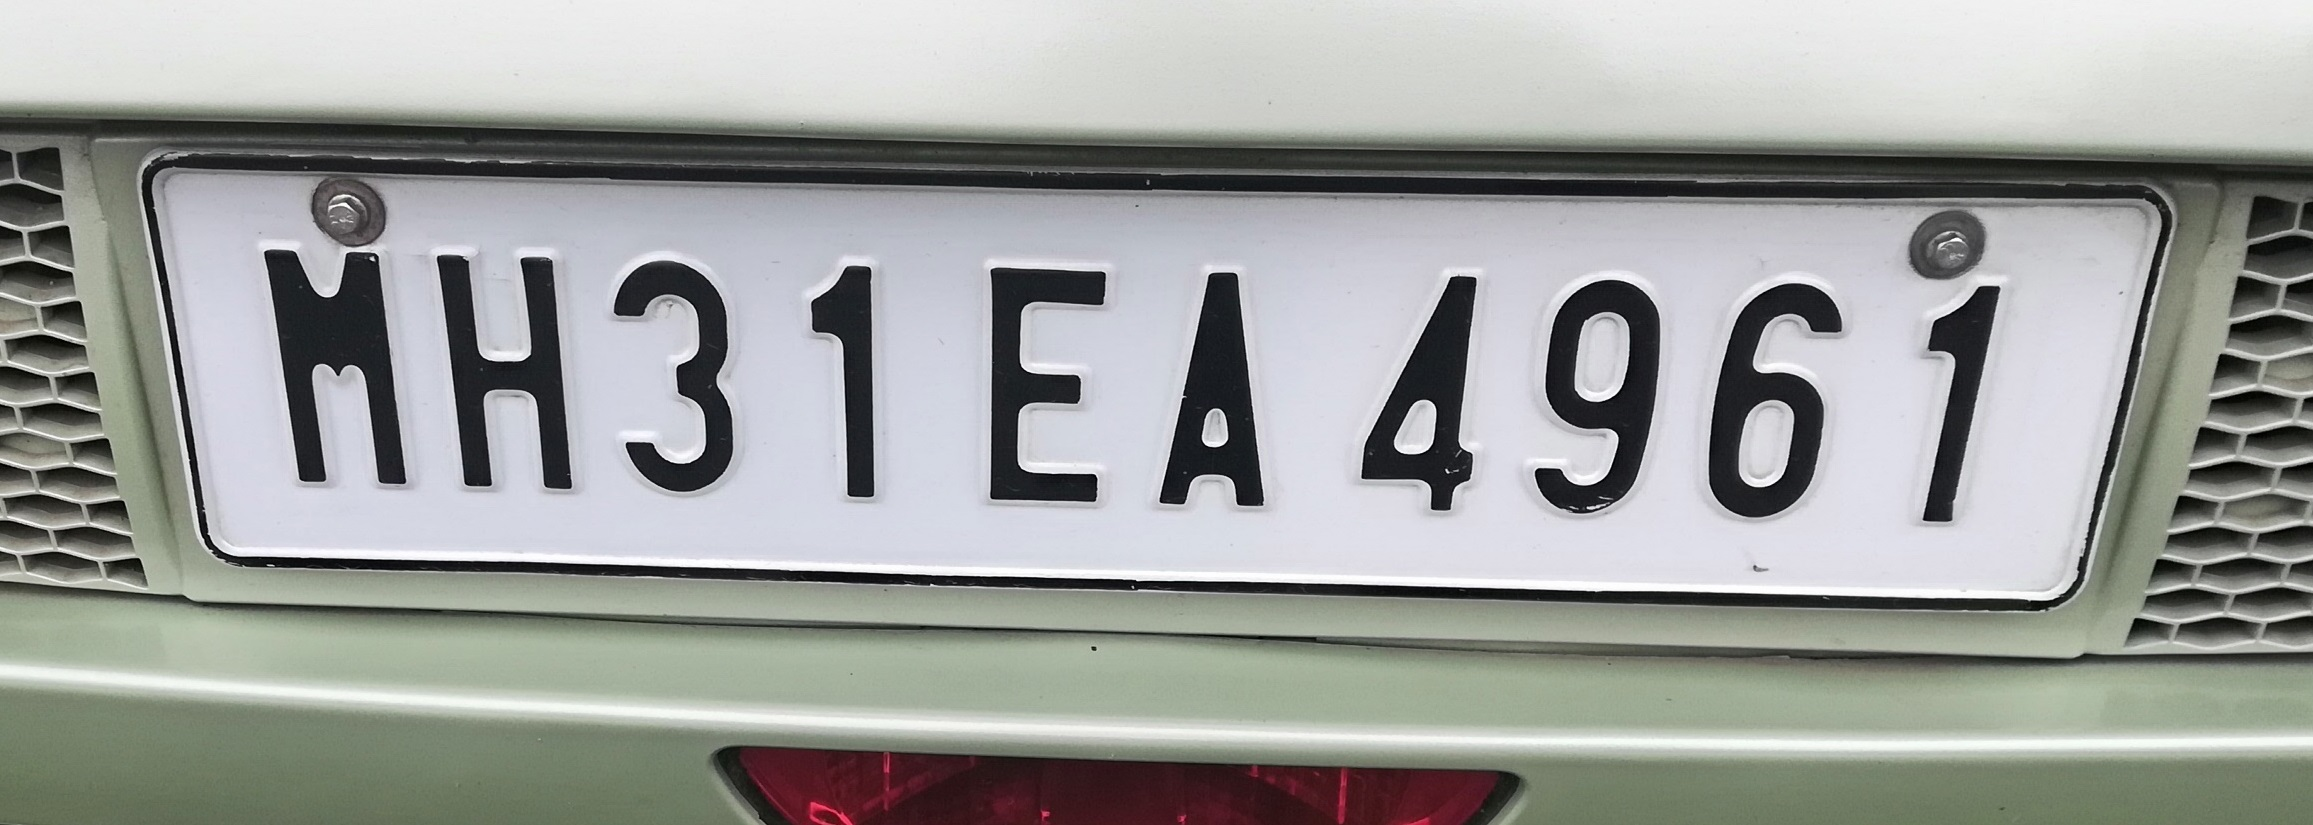numberplate: (126, 132, 2173, 622)
